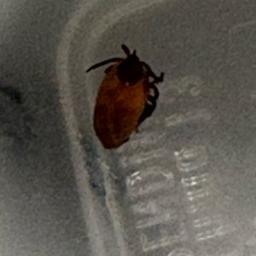Ixodes scapularis: (84, 43, 165, 150)
